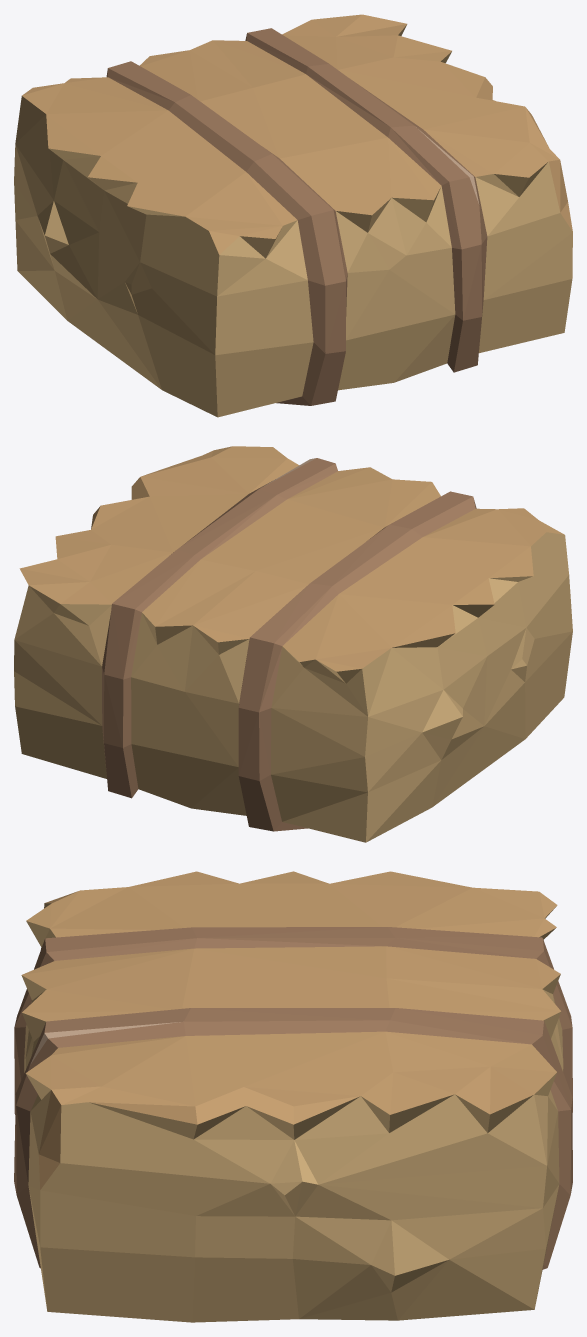
The model's file is EA_M_HayBale_Square_Dry_01c.fbx.
3 renders of one model, top to bottom at view 1: azimuth 30°, elevation 25°; view 2: azimuth 150°, elevation 25°; view 3: azimuth 270°, elevation 25°, orthographic. The views are drawn at different scales.
Parts seen in each view (by area): view 1: EA_M_HayBale_Square_Dry_01c_LOD0; view 2: EA_M_HayBale_Square_Dry_01c_LOD0; view 3: EA_M_HayBale_Square_Dry_01c_LOD0.
Part boxes in pixels (x1,y1,x2,y2): EA_M_HayBale_Square_Dry_01c_LOD0: (14, 14, 572, 417); EA_M_HayBale_Square_Dry_01c_LOD0: (14, 446, 572, 842); EA_M_HayBale_Square_Dry_01c_LOD0: (14, 871, 572, 1322).
Size of what is drawn, in the model's own units: 1.21 by 0.6056 by 1.15.
